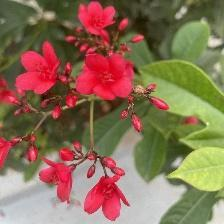jatropha: (78, 52, 135, 103), (14, 42, 62, 96)
